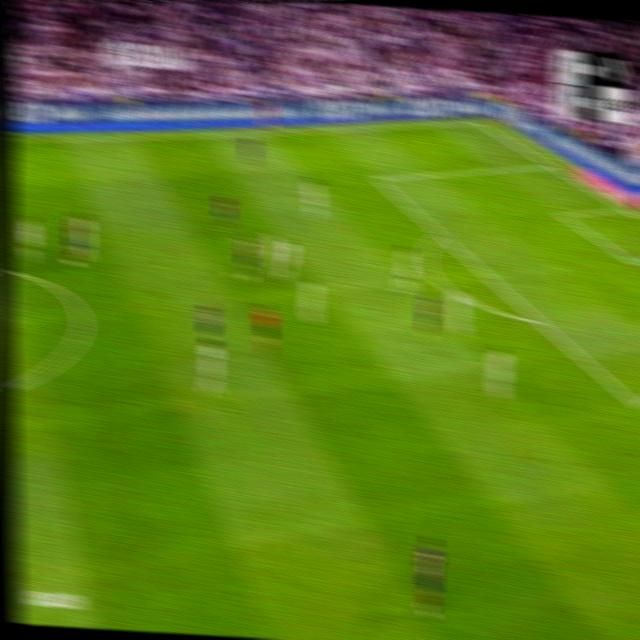bigarea_top_inner: (370, 169, 387, 187)
bigarea_top_outter: (542, 157, 557, 170)
bottom_arc_area_intersection: (531, 309, 548, 329)
corner: (473, 117, 486, 126)
smallarea_top_inner: (558, 208, 570, 221)
top_arc_area_intersection: (433, 225, 450, 242)
